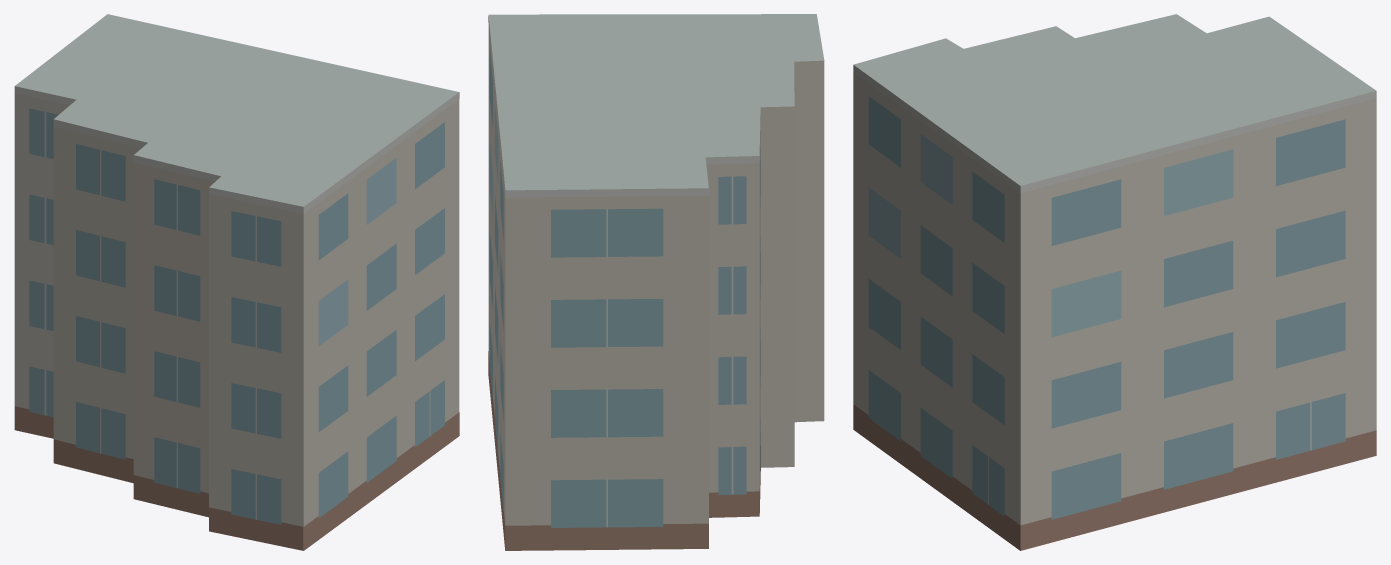
The model's file is survey-upis-33020882.glb.
3 renders of one model, left to right at view 1: azimuth 30°, elevation 25°; view 2: azimuth 150°, elevation 25°; view 3: azimuth 270°, elevation 25°, orthographic. The views are drawn at different scales.
Visible parts, largest first — view 1: survey-upis-33020882.tmp; view 2: survey-upis-33020882.tmp; view 3: survey-upis-33020882.tmp.
Part boxes in pixels (bbox=[...]): survey-upis-33020882.tmp: bbox=[14, 14, 459, 550]; survey-upis-33020882.tmp: bbox=[488, 14, 824, 550]; survey-upis-33020882.tmp: bbox=[853, 14, 1376, 550].
Bounding box in the file's own units: 12.34 × 12.2 × 15.86.
